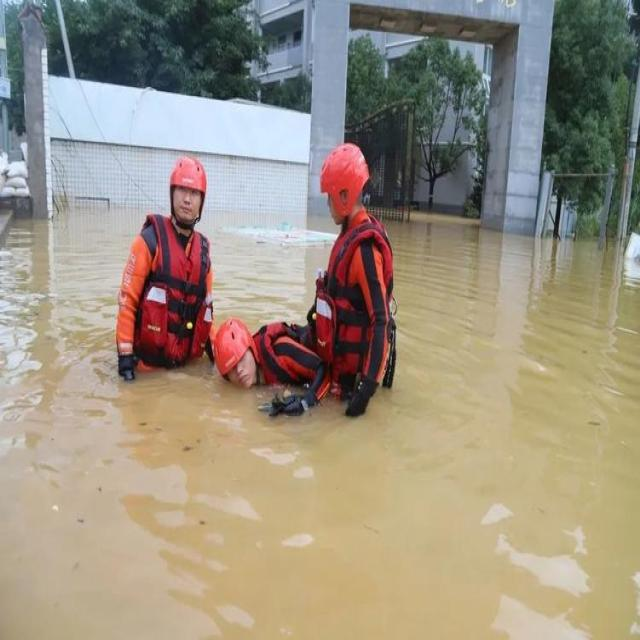rescuer: (307, 142, 402, 404), (116, 148, 221, 372), (207, 311, 328, 406)
